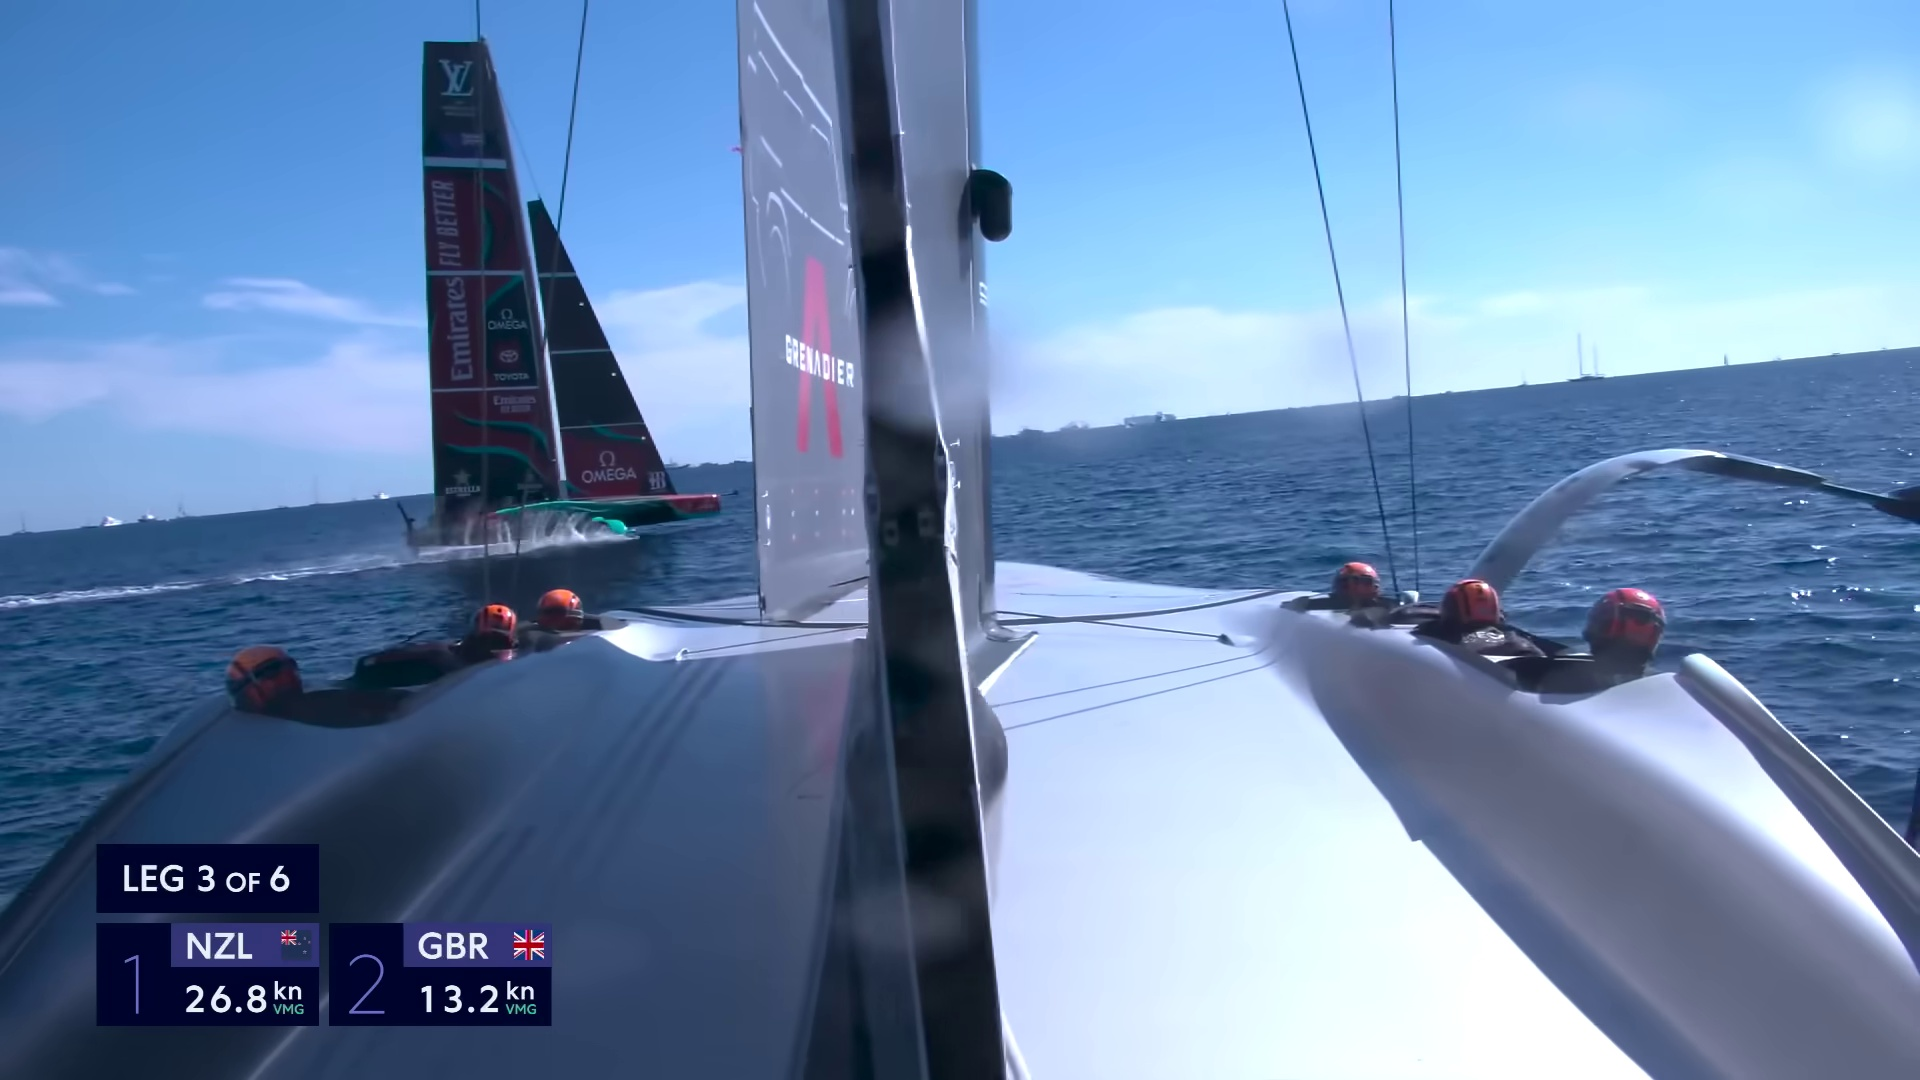pennon: (949, 438, 961, 448), (952, 481, 961, 489), (764, 538, 771, 547), (762, 491, 769, 498)
